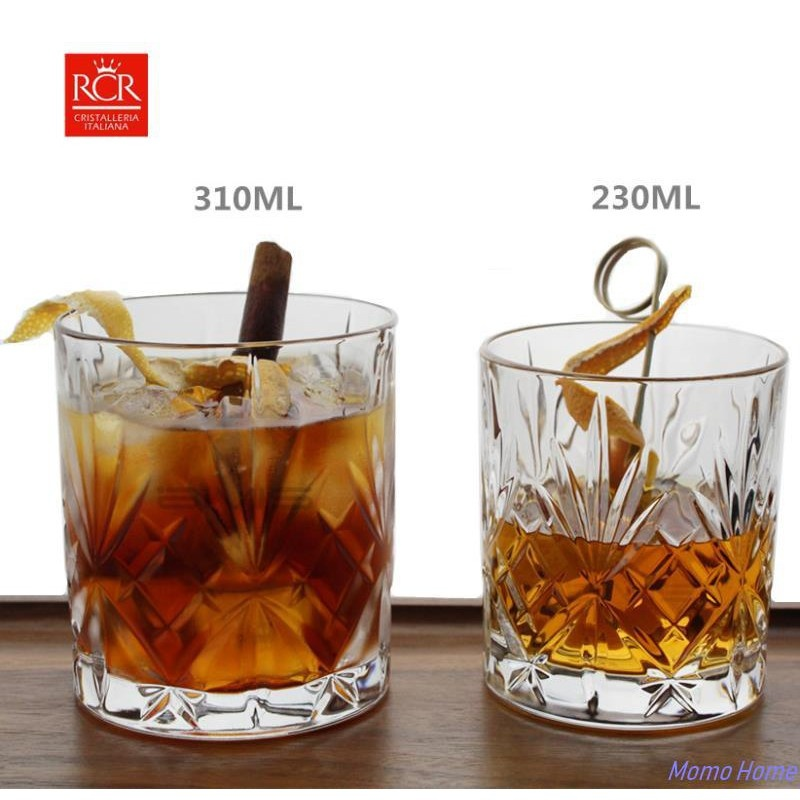whiskey: (27, 280, 394, 728), (478, 325, 772, 720)
